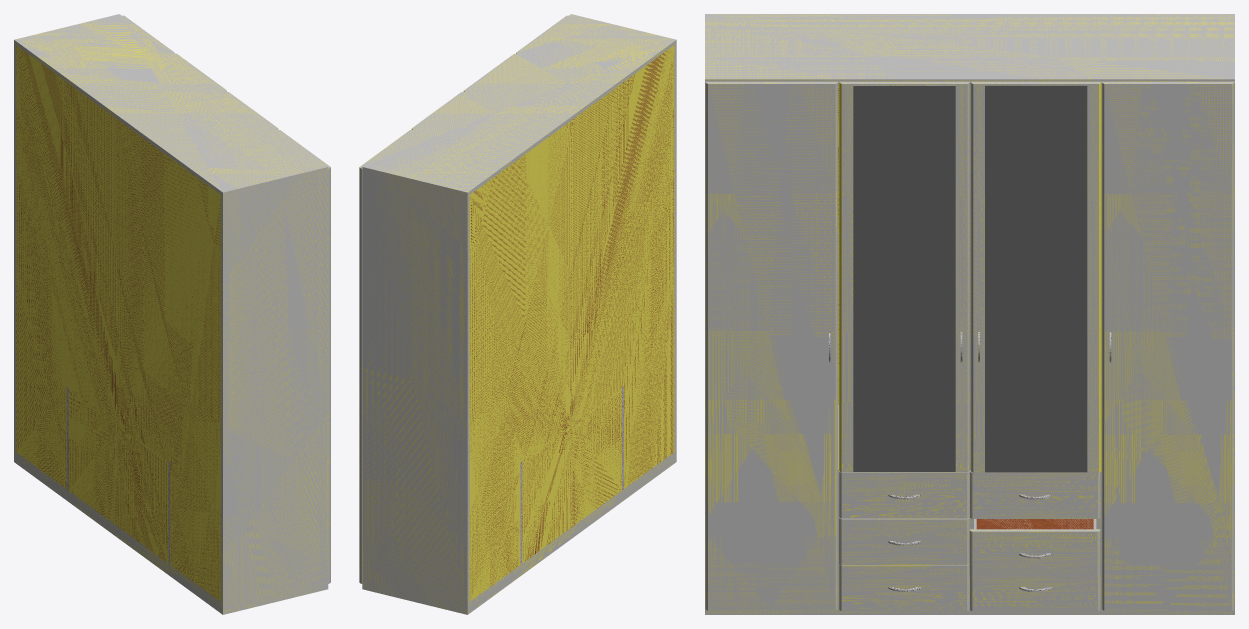
3 renders of one model, left to right at view 1: azimuth 30°, elevation 25°; view 2: azimuth 150°, elevation 25°; view 3: azimuth 270°, elevation 25°, orthographic. The views are drawn at different scales.
Parts seen in each view (by area): view 1: mesh6.001_mesh6-geometry, mesh2.004_mesh2-geometry; view 2: mesh6.001_mesh6-geometry, mesh2.003_mesh2-geometry; view 3: mesh2.003_mesh2-geometry, mesh2.004_mesh2-geometry, mesh5.002_mesh5-geometry, mesh4.002_mesh4-geometry, mesh6.001_mesh6-geometry, mesh3.007_mesh3-geometry, mesh3.011_mesh3-geometry, mesh3.010_mesh3-geometry, mesh3.012_mesh3-geometry, mesh3.009_mesh3-geometry, mesh3.008_mesh3-geometry.
Part boxes in pixels (<box>): mesh6.001_mesh6-geometry: <box>14,14,328,614</box>; mesh2.004_mesh2-geometry: <box>278,130,330,583</box>; mesh6.001_mesh6-geometry: <box>362,14,676,614</box>; mesh2.003_mesh2-geometry: <box>359,130,411,583</box>; mesh2.003_mesh2-geometry: <box>1101,81,1234,610</box>; mesh2.004_mesh2-geometry: <box>705,81,838,610</box>; mesh5.002_mesh5-geometry: <box>839,81,970,472</box>; mesh4.002_mesh4-geometry: <box>970,81,1101,472</box>; mesh6.001_mesh6-geometry: <box>705,14,1234,614</box>; mesh3.007_mesh3-geometry: <box>969,519,1100,577</box>; mesh3.011_mesh3-geometry: <box>839,517,969,564</box>; mesh3.010_mesh3-geometry: <box>839,471,969,518</box>; mesh3.012_mesh3-geometry: <box>839,564,969,611</box>; mesh3.009_mesh3-geometry: <box>970,470,1100,518</box>; mesh3.008_mesh3-geometry: <box>970,576,1100,611</box>.
Bounding box in the file's own units: 0.2412 × 0.7226 × 0.6478.
